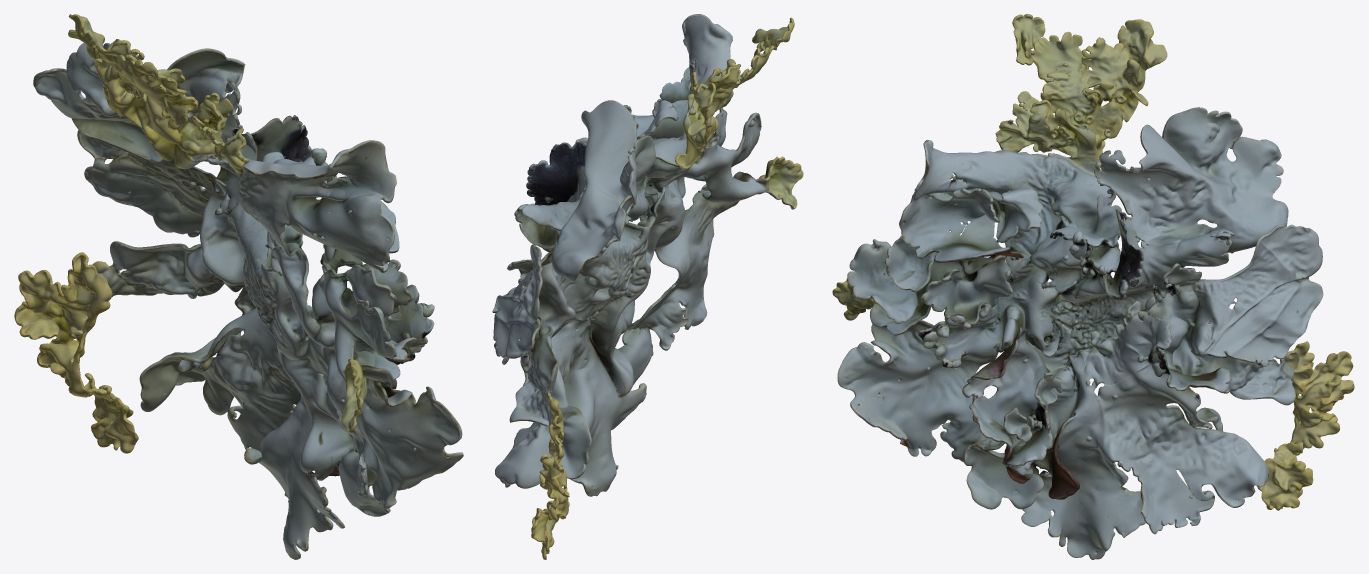
File: Liquen15.glb
3 renders of one model, left to right at view 1: azimuth 30°, elevation 25°; view 2: azimuth 150°, elevation 25°; view 3: azimuth 270°, elevation 25°, orthographic. The views are drawn at different scales.
Parts seen in each view (by area): view 1: tripo_node_097ee1a4; view 2: tripo_node_097ee1a4; view 3: tripo_node_097ee1a4.
Part boxes in pixels (bbox=[...]): tripo_node_097ee1a4: bbox=[14, 14, 463, 559]; tripo_node_097ee1a4: bbox=[492, 14, 803, 559]; tripo_node_097ee1a4: bbox=[832, 14, 1354, 559].
Size of the model in its own units: 0.4567 by 0.9633 by 0.9682.
1 material, 1 textured.
